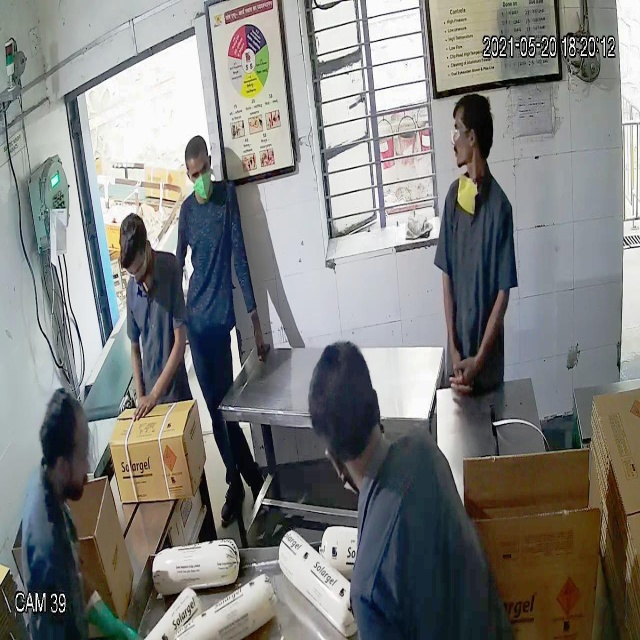Gafas: (447, 120, 474, 148)
Sin_gafas: (184, 160, 214, 179)
